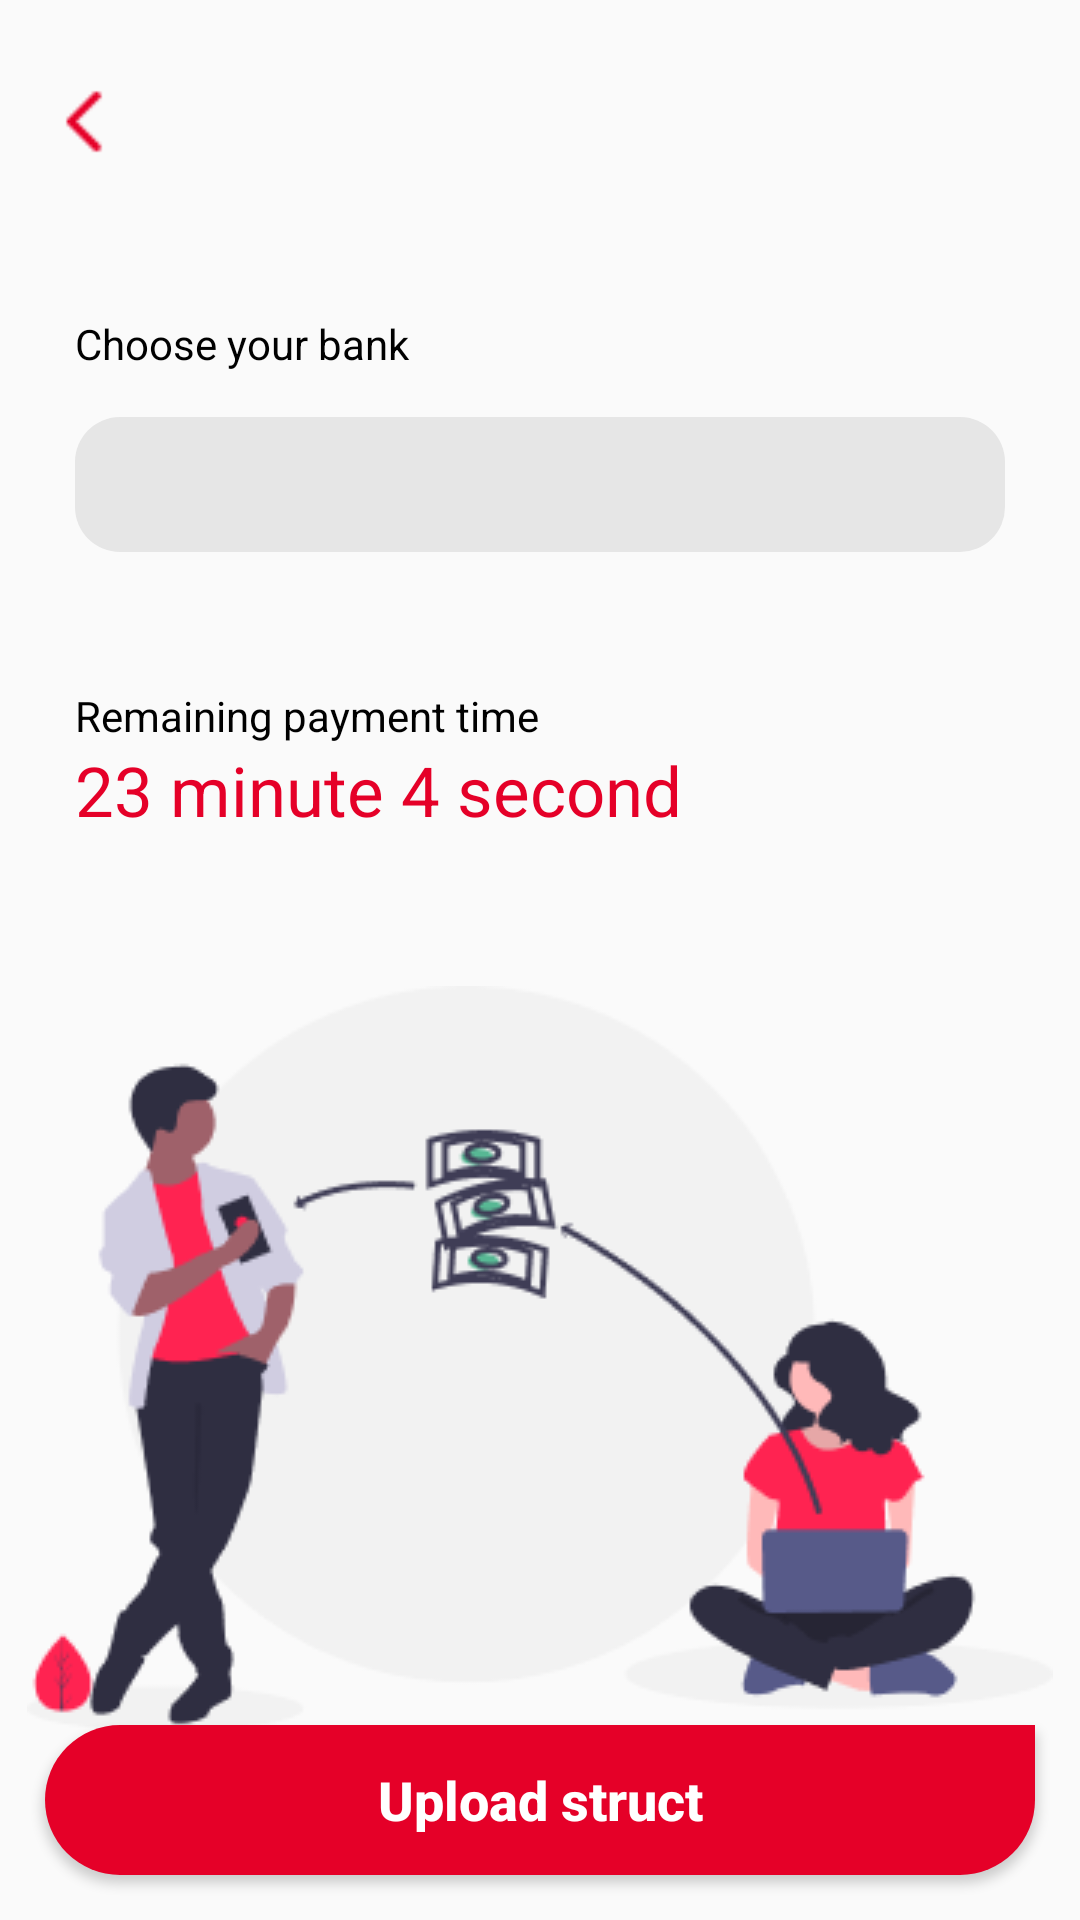

Where to tap for icons on this 1080w x 1920h app screen, as [x,y]:
back: [84,121]
